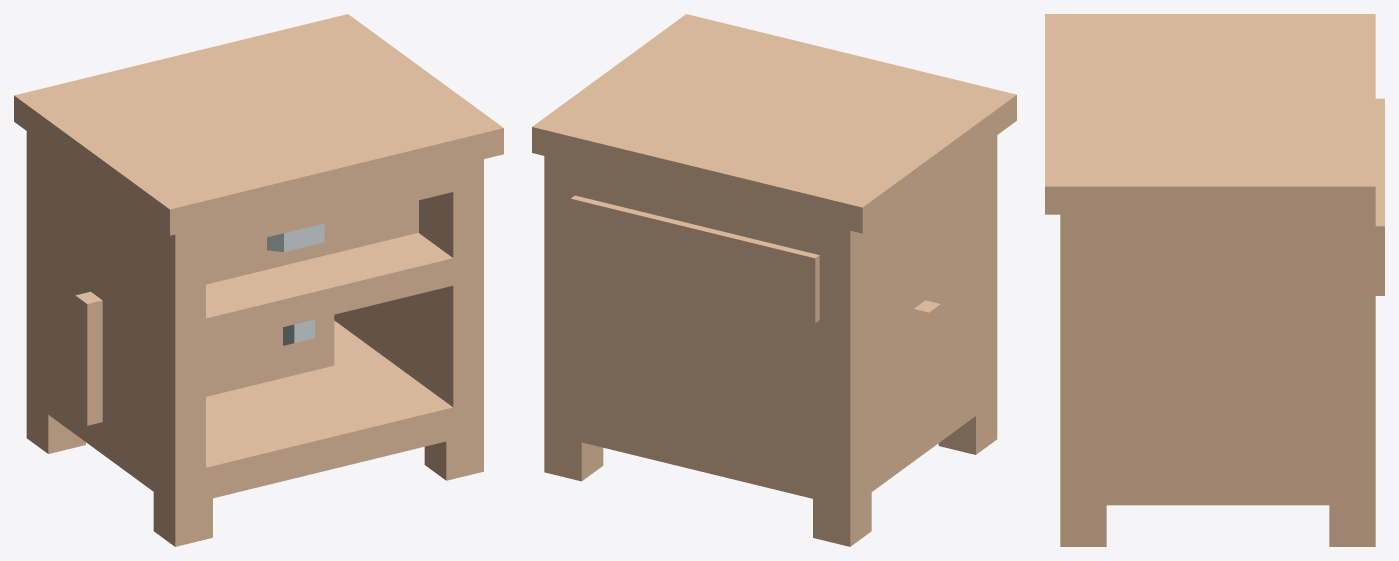
File: cabinetBedDrawer.glb
3 views of the same model, side by side, from view 1: azimuth 30°, elevation 25°; view 2: azimuth 150°, elevation 25°; view 3: azimuth 270°, elevation 25° (orthographic). The views are drawn at different scales.
Visible parts, largest first — view 1: cabinetBedDrawer, cabinetBedDrawer.001, cabinetBedDrawer.002; view 2: cabinetBedDrawer, cabinetBedDrawer.002, cabinetBedDrawer.001; view 3: cabinetBedDrawer, cabinetBedDrawer.002.
Part boxes in pixels (x1,y1,x2,y2): cabinetBedDrawer: (14,14,503,546); cabinetBedDrawer.001: (75,291,334,425); cabinetBedDrawer.002: (206,200,418,284); cabinetBedDrawer: (532,14,1016,546); cabinetBedDrawer.002: (570,195,819,323); cabinetBedDrawer.001: (914,300,940,432); cabinetBedDrawer: (1045,14,1375,546); cabinetBedDrawer.002: (1375,98,1384,295).
Bounding box in the file's own units: 0.7781 × 0.7633 × 0.6413.
